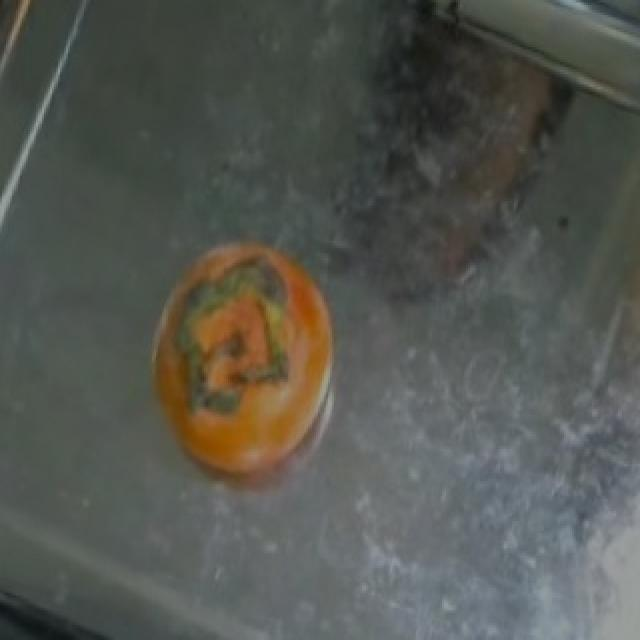Fruit: (132, 216, 362, 531), (0, 0, 60, 136)
